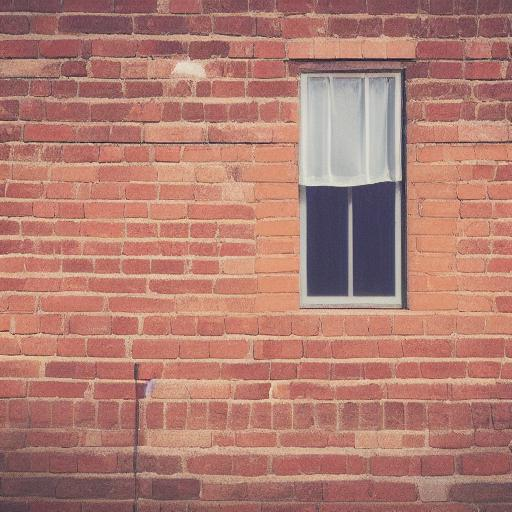Window: (290, 40, 419, 316)
